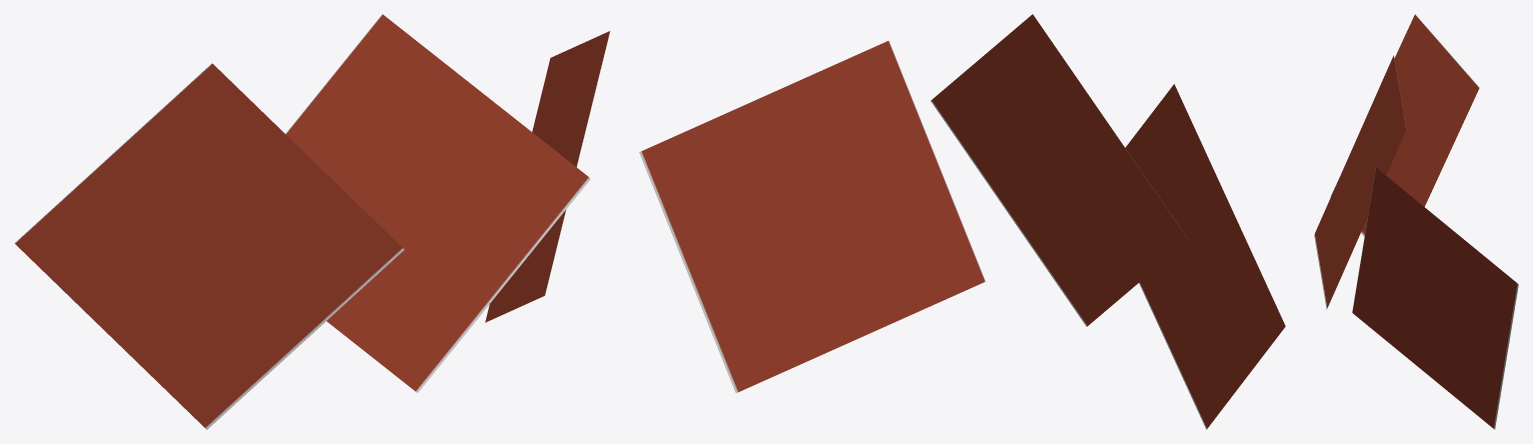
The model's file is Character01_Swelling.fbx.
3 views of the same model, side by side, from view 1: azimuth 30°, elevation 25°; view 2: azimuth 150°, elevation 25°; view 3: azimuth 270°, elevation 25° (orthographic). The views are drawn at different scales.
Visible parts, largest first — view 1: Swelling03, Swelling02, Swelling01; view 2: Swelling01, Swelling02, Swelling03; view 3: Swelling01, Swelling03, Swelling02.
Boxes of the visible parts, x1,y1,x2,y2 form: Swelling03: [14, 63, 404, 429]; Swelling02: [286, 14, 590, 392]; Swelling01: [485, 31, 610, 322]; Swelling01: [639, 40, 985, 393]; Swelling02: [931, 14, 1188, 326]; Swelling03: [1125, 84, 1285, 429]; Swelling01: [1352, 167, 1518, 429]; Swelling03: [1330, 14, 1479, 236]; Swelling02: [1314, 55, 1406, 309].
Bounding box in the file's own units: 38.06 × 22.64 × 14.45.
Materials: 1 (1 with a texture image).
